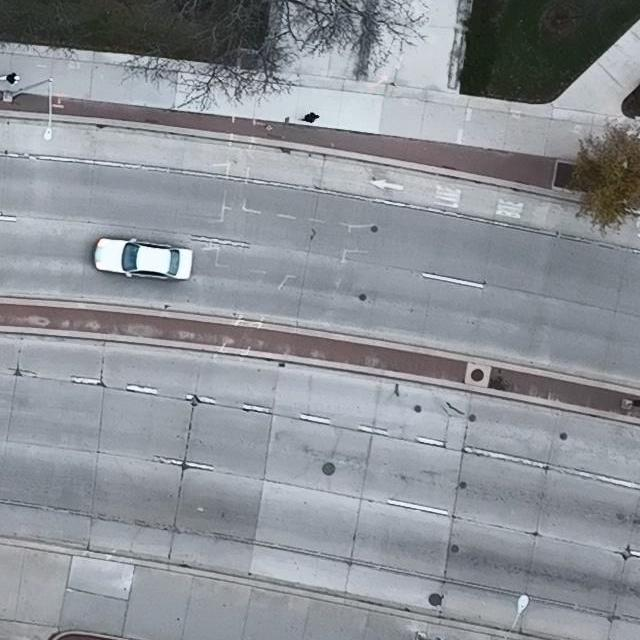car: (91, 237, 194, 282)
